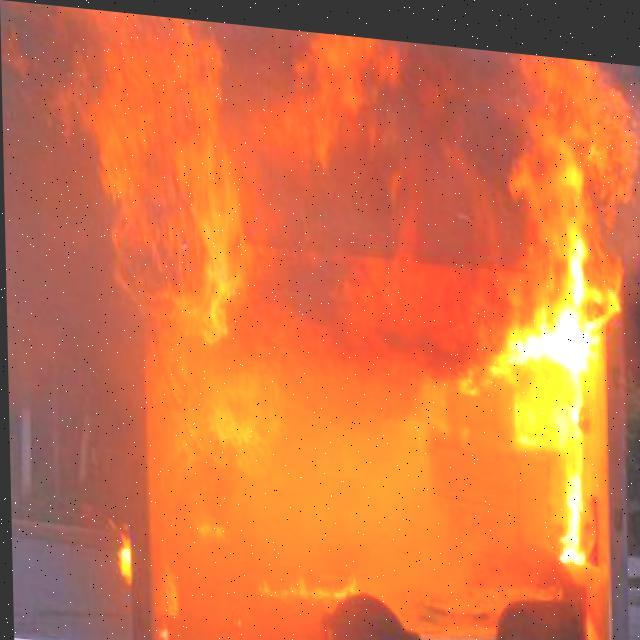Fire: (72, 15, 612, 592)
